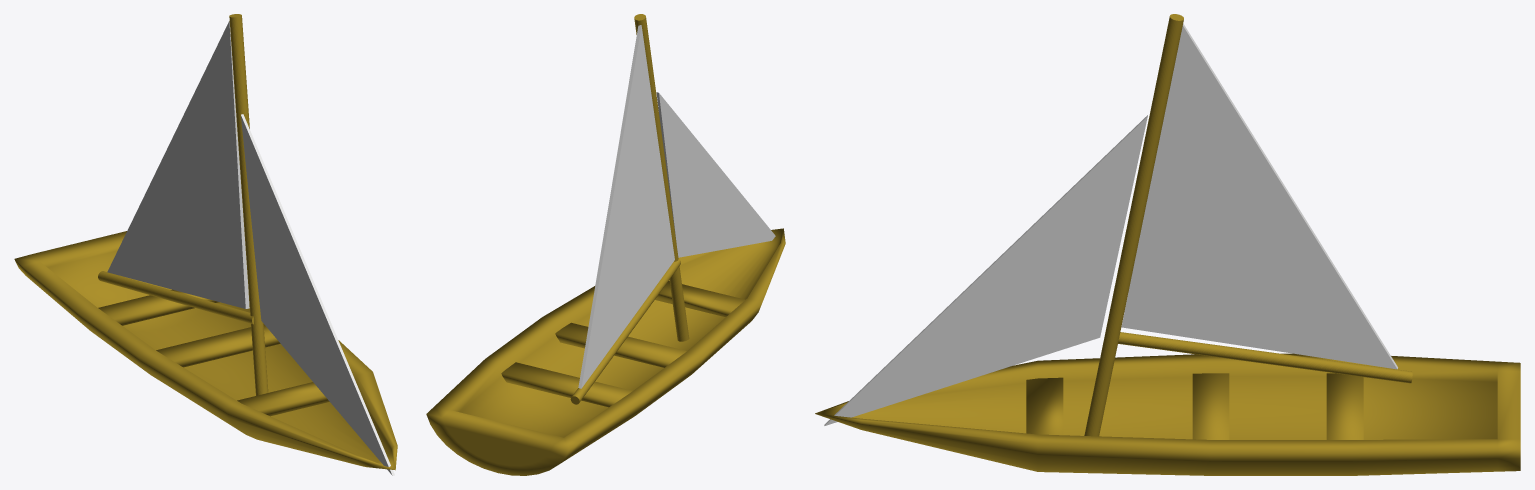
File: Boat.fbx
3 renders of one model, left to right at view 1: azimuth 30°, elevation 25°; view 2: azimuth 150°, elevation 25°; view 3: azimuth 270°, elevation 25°, orthographic. The views are drawn at different scales.
Visible parts, largest first — view 1: Boat, Sail.001, Sail, Mast; view 2: Boat, Sail.001, Sail, Mast; view 3: Boat, Sail.001, Sail, Mast.
Part boxes in pixels (x1,y1,x2,y2): Boat: [14, 231, 397, 470]; Sail.001: [107, 21, 249, 308]; Sail: [241, 114, 394, 475]; Mast: [98, 14, 268, 395]; Boat: [426, 228, 785, 475]; Sail.001: [578, 25, 674, 388]; Sail: [656, 92, 775, 257]; Mast: [570, 14, 689, 404]; Boat: [815, 353, 1520, 475]; Sail.001: [1121, 23, 1397, 369]; Sail: [824, 115, 1147, 425]; Mast: [1084, 14, 1412, 436].
Size of the model in its own units: 290 by 613 by 887.
